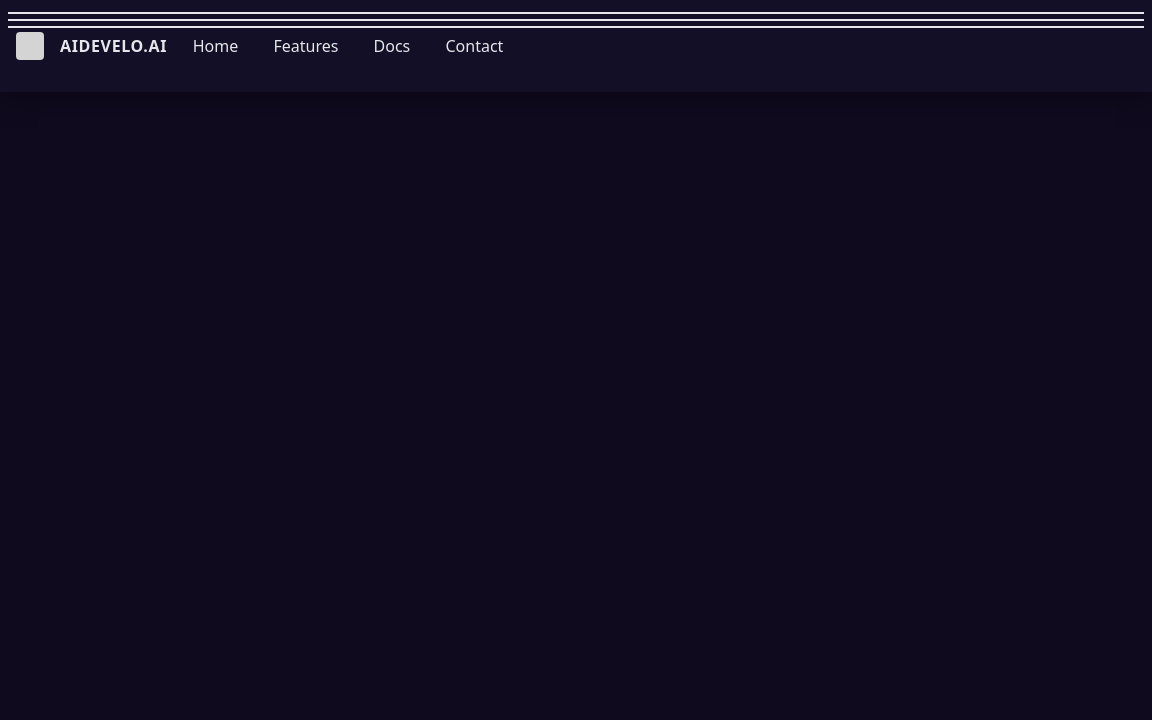
Test case: Navbar › opens and closes the drawer with the hamburger button
Click the button named "open menu". click: point(1114, 46)
box: [1092, 24, 1136, 68]
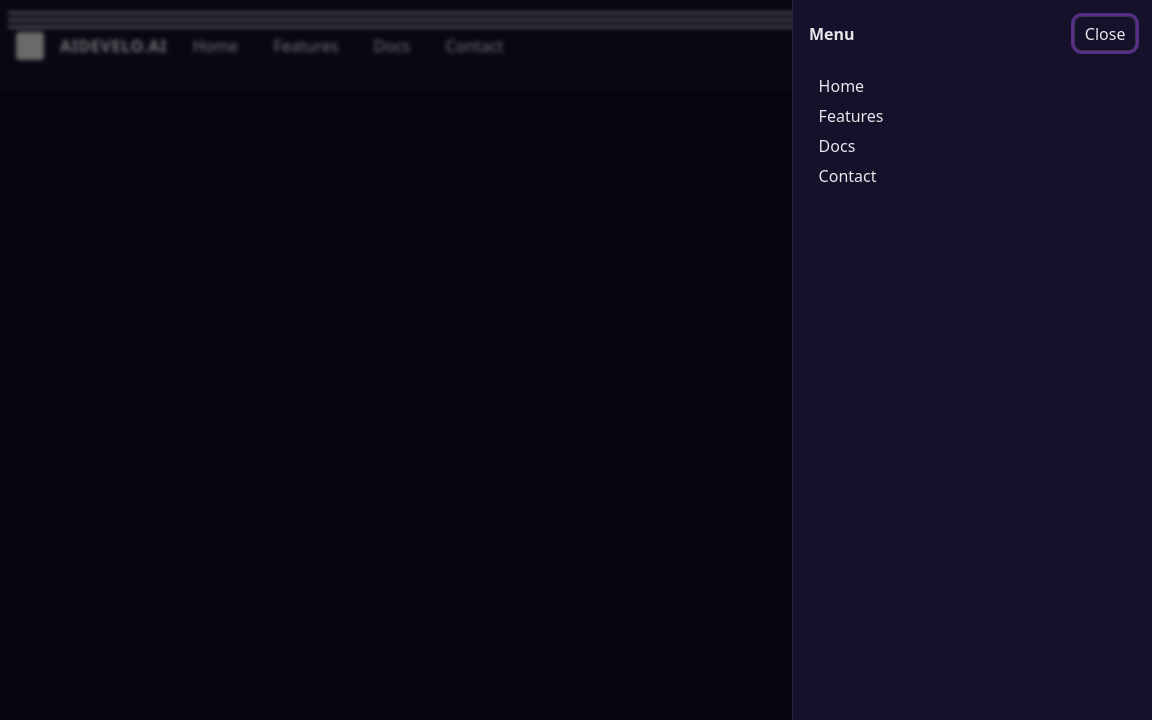
Result: the dialog is shown
# close via escape
Press Escape in the dialog, box [792, 0, 1151, 719]
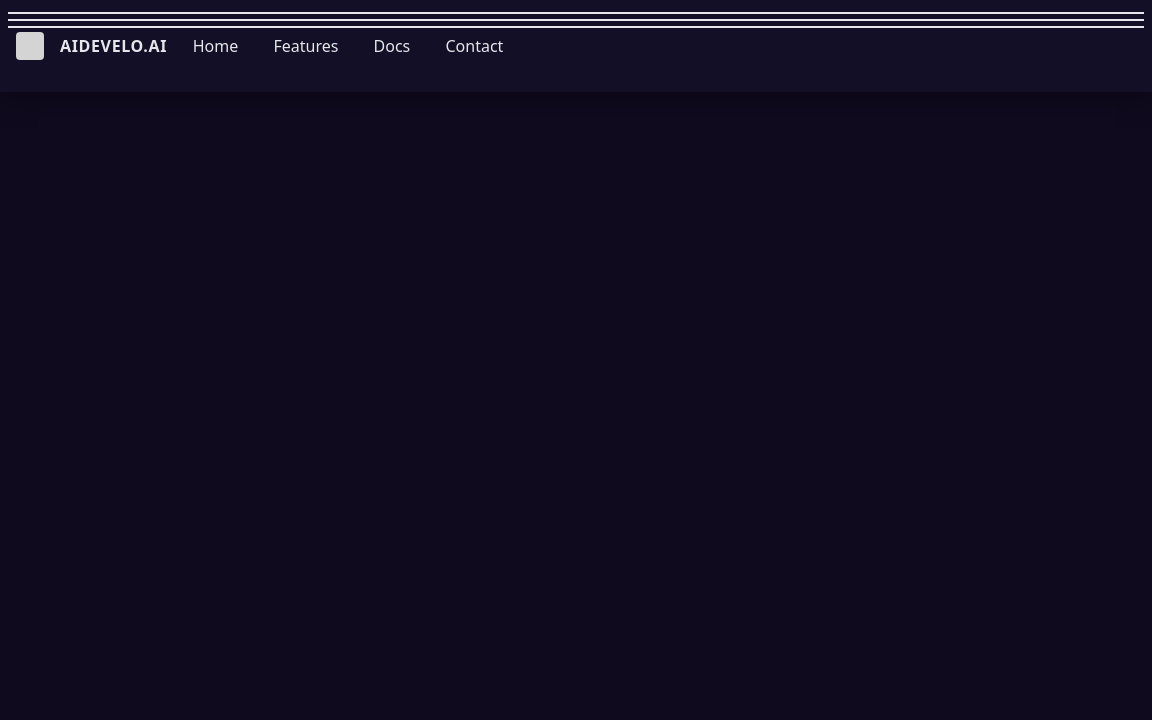
Result: the dialog is gone
